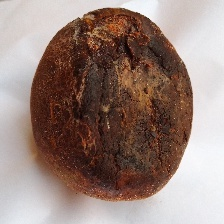guava: (28, 8, 211, 191)
